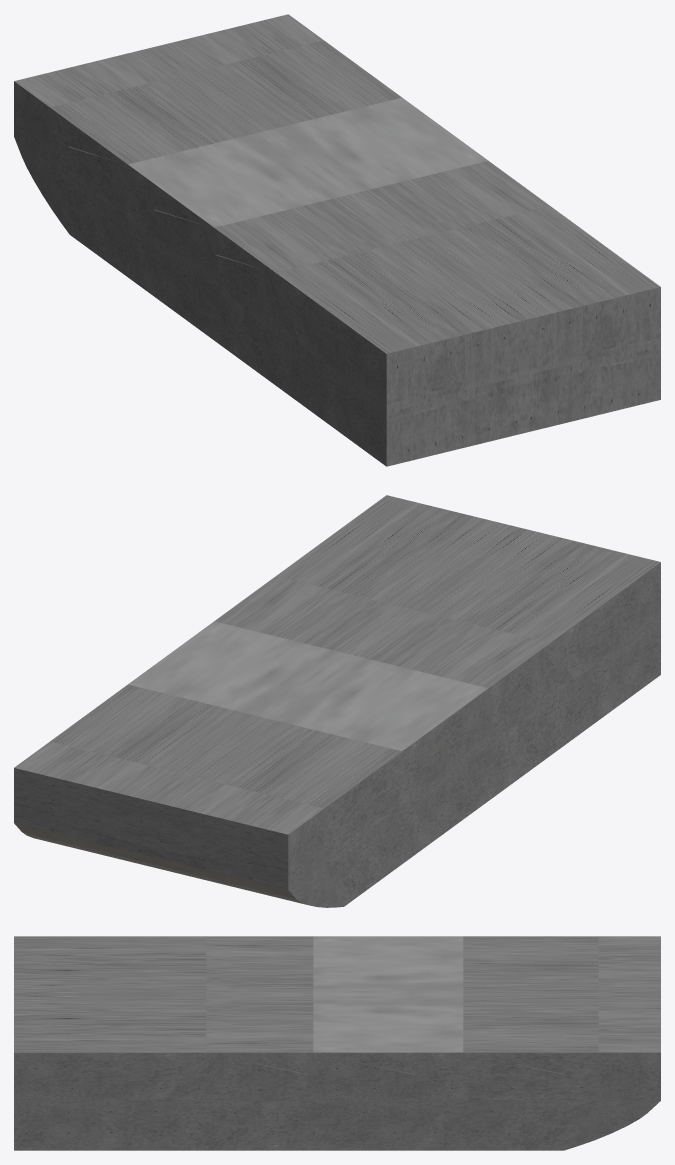
Rendered from RifleRange_2.fbx.
3 renders of one model, top to bottom at view 1: azimuth 30°, elevation 25°; view 2: azimuth 150°, elevation 25°; view 3: azimuth 270°, elevation 25°, orthographic. The views are drawn at different scales.
Visible parts, largest first — view 1: RifleRange; view 2: RifleRange; view 3: RifleRange.
Part boxes in pixels (bbox=[...]): RifleRange: bbox=[14, 14, 660, 466]; RifleRange: bbox=[14, 495, 660, 907]; RifleRange: bbox=[14, 936, 660, 1150].
Bounding box in the file's own units: 1014 × 393 × 2352.
3 materials, 3 textured.
